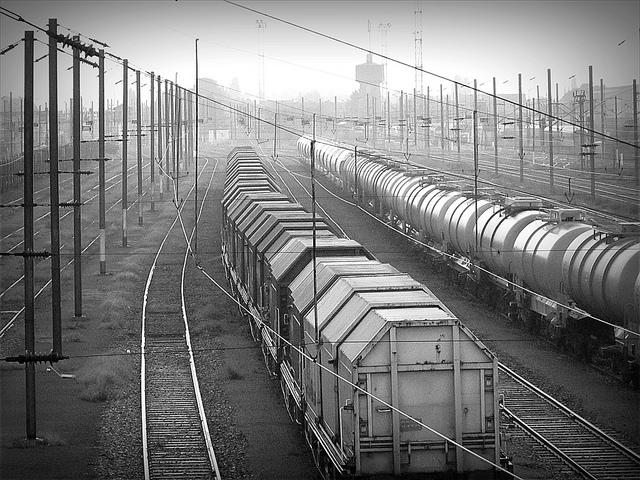Train: (221, 145, 516, 476), (290, 136, 640, 390)
